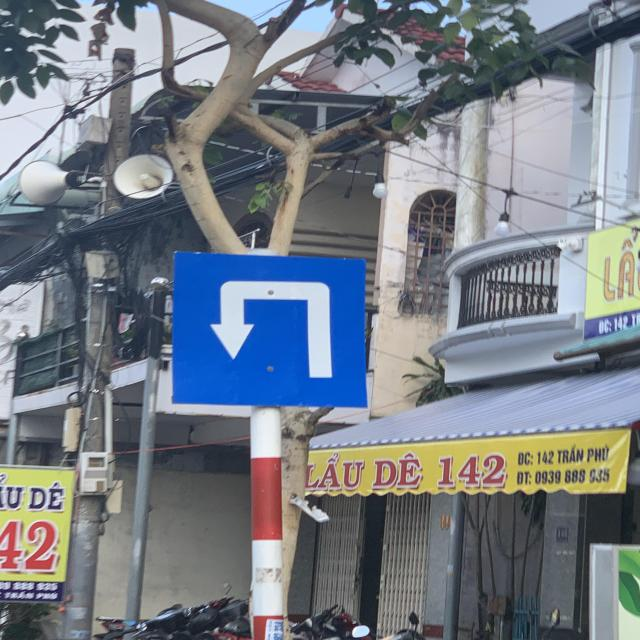Den_Giao_Thong: (174, 253, 370, 409)
